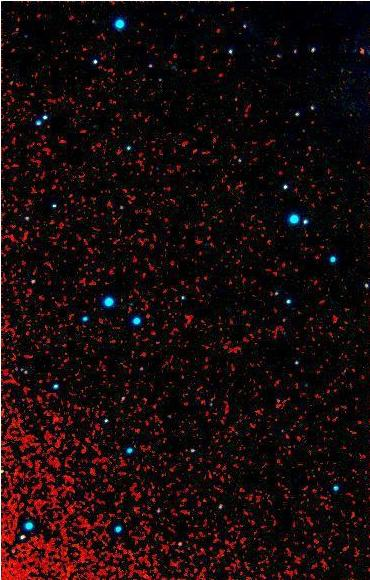star: (347, 37, 370, 67)
